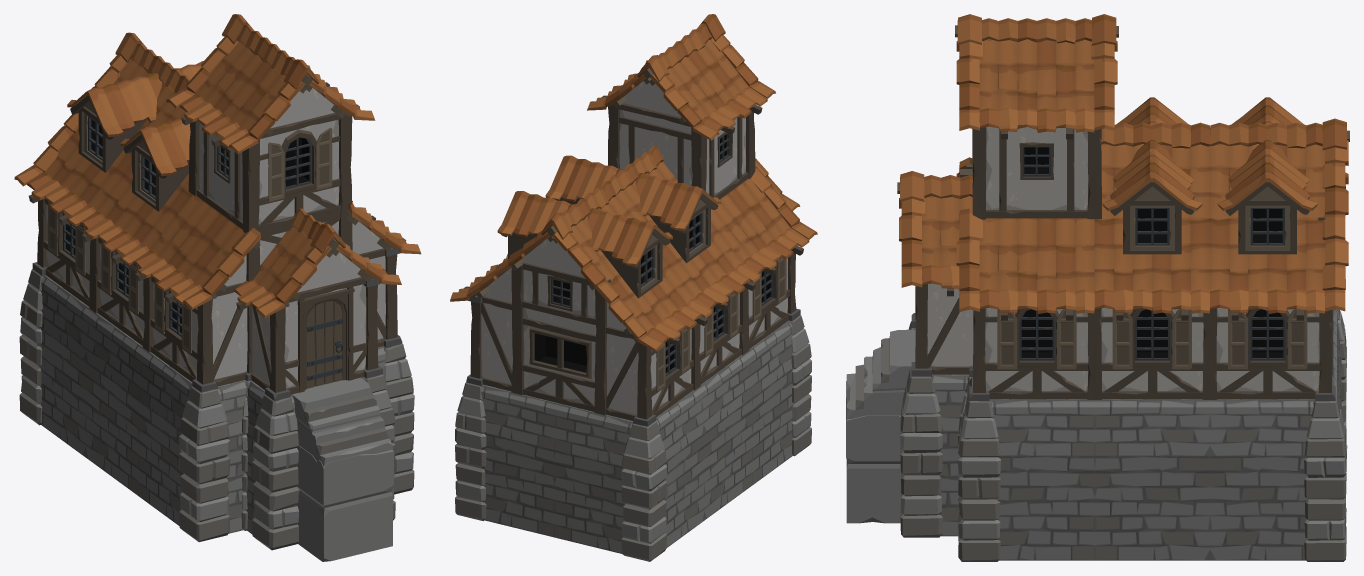
The model's file is kn_bld_temple.gltf.
3 renders of one model, left to right at view 1: azimuth 30°, elevation 25°; view 2: azimuth 150°, elevation 25°; view 3: azimuth 270°, elevation 25°, orthographic. The views are drawn at different scales.
Visible parts, largest first — view 1: kn_bld_temple; view 2: kn_bld_temple; view 3: kn_bld_temple.
Boxes of the visible parts, x1=… form: kn_bld_temple: x1=14, y1=14, x2=421, y2=561; kn_bld_temple: x1=450, y1=14, x2=817, y2=561; kn_bld_temple: x1=846, y1=14, x2=1349, y2=561.
Bounding box in the file's own units: 6.45 × 11.74 × 10.92.
1 material, 1 textured.
